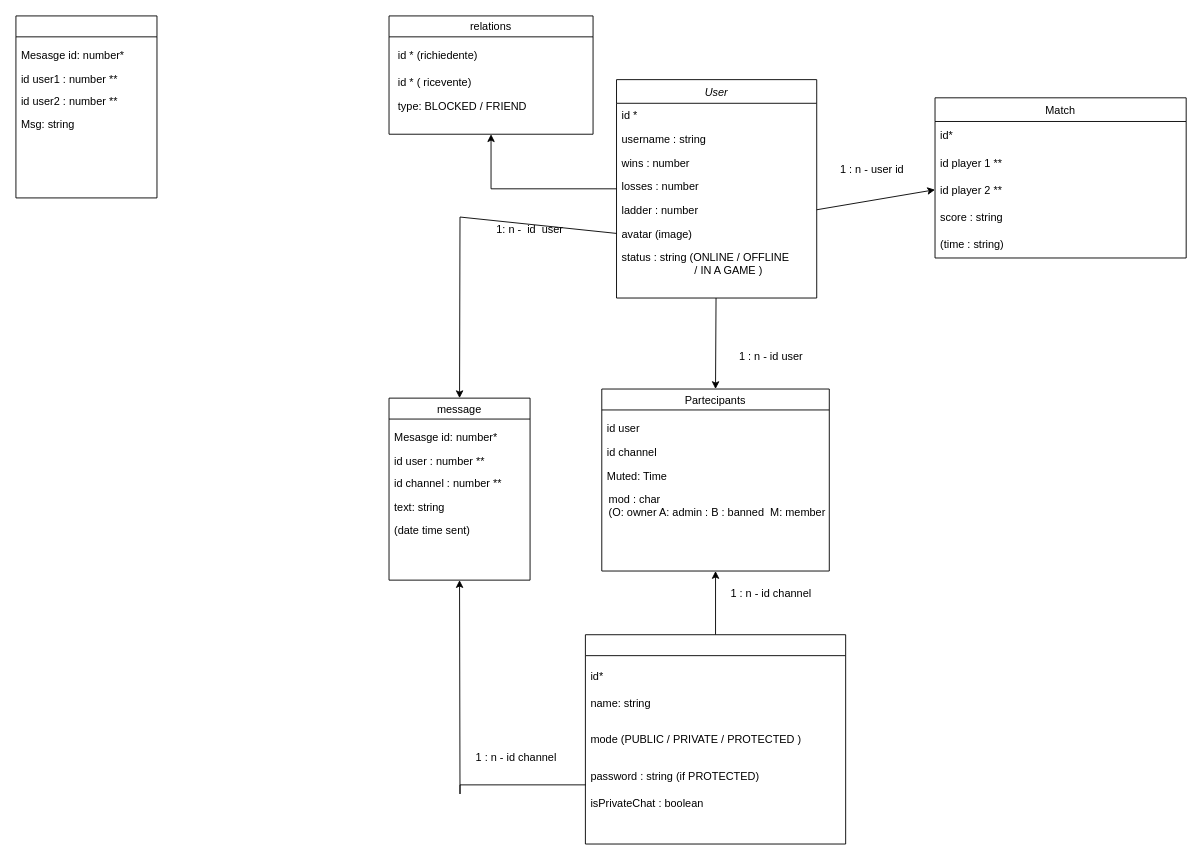
The diagram is 1202 pixels wide and 860 high, and some of its shapes have lost their labels. The shapes that lost their labels are listed below. From the top down, each one's box as (x1, y1, x2, y2) in pixels, then its label:
(15, 15, 157, 198): prv. message
(584, 634, 846, 844): Channel
